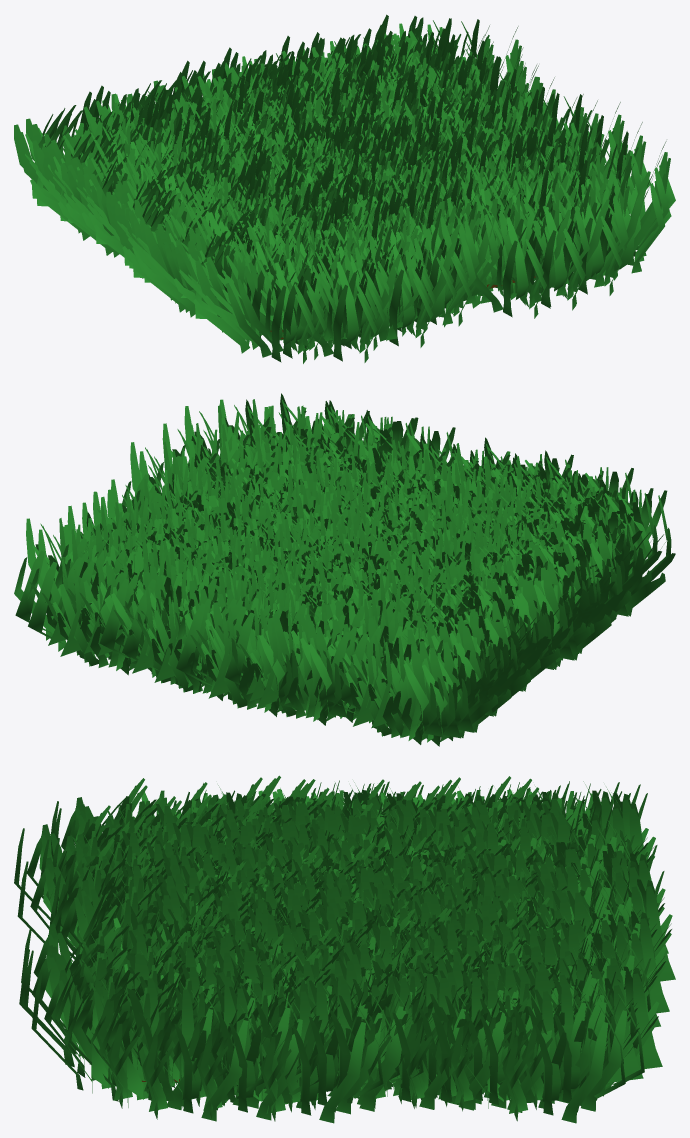
The model's file is Grass_2.fbx.
The picture shows the model from 3 angles, top to bottom: view 1: azimuth 30°, elevation 25°; view 2: azimuth 150°, elevation 25°; view 3: azimuth 270°, elevation 25°; orthographic projection. The views are drawn at different scales.
Visible parts, largest first — view 1: Plane.002|Plane.001|Dupli|37, Plane.002|Plane.001|Dupli|95, Plane.002|Plane.001|Dupli|101, Plane.002|Plane.001|Dupli|59, Plane.002|Plane.001|Dupli|155, Plane.002|Plane.001|Dupli|168, Plane.002|Plane.001|Dupli|185, Plane.002|Plane.001|Dupli|105, Plane.002|Plane.001|Dupli|65, Plane.002|Plane.001|Dupli|97, Plane.002|Plane.001|Dupli|170, Plane.002|Plane.001|Dupli|44 (+107 smaller); view 2: Plane.002|Plane.001|Dupli|30, Plane.002|Plane.001|Dupli|68, Plane.002|Plane.001|Dupli|104, Plane.002|Plane.001|Dupli|148, Plane.002|Plane.001|Dupli|1, Plane.002|Plane.001|Dupli|37, Plane.002|Plane.001|Dupli|15, Plane.002|Plane.001|Dupli|105, Plane.002|Plane.001|Dupli|48, Plane.002|Plane.001|Dupli|75, Plane.002|Plane.001|Dupli|170, Plane.002|Plane.001|Dupli|103 (+100 smaller); view 3: Plane.002|Plane.001|Dupli|44, Plane.002|Plane.001|Dupli|48, Plane.002|Plane.001|Dupli|155, Plane.002|Plane.001|Dupli|68, Plane.002|Plane.001|Dupli|159, Plane.002|Plane.001|Dupli|150, Plane.002|Plane.001|Dupli|127, Plane.002|Plane.001|Dupli|27, Plane.002|Plane.001|Dupli|71, Plane.002|Plane.001|Dupli|12, Plane.002|Plane.001|Dupli|163, Plane.002|Plane.001|Dupli|59 (+142 smaller).
Boxes of the visible parts, x1=… form: Plane.002|Plane.001|Dupli|37: x1=177, y1=212, x2=357, y2=363; Plane.002|Plane.001|Dupli|95: x1=445, y1=166, x2=590, y2=318; Plane.002|Plane.001|Dupli|101: x1=238, y1=210, x2=420, y2=362; Plane.002|Plane.001|Dupli|59: x1=479, y1=158, x2=630, y2=310; Plane.002|Plane.001|Dupli|155: x1=506, y1=143, x2=671, y2=295; Plane.002|Plane.001|Dupli|168: x1=330, y1=195, x2=482, y2=347; Plane.002|Plane.001|Dupli|185: x1=188, y1=208, x2=367, y2=359; Plane.002|Plane.001|Dupli|105: x1=18, y1=99, x2=200, y2=240; Plane.002|Plane.001|Dupli|65: x1=370, y1=174, x2=514, y2=326; Plane.002|Plane.001|Dupli|97: x1=126, y1=175, x2=308, y2=317; Plane.002|Plane.001|Dupli|170: x1=115, y1=170, x2=292, y2=312; Plane.002|Plane.001|Dupli|44: x1=526, y1=128, x2=675, y2=280; Plane.002|Plane.001|Dupli|30: x1=320, y1=593, x2=489, y2=744; Plane.002|Plane.001|Dupli|68: x1=27, y1=523, x2=164, y2=675; Plane.002|Plane.001|Dupli|104: x1=340, y1=594, x2=508, y2=746; Plane.002|Plane.001|Dupli|148: x1=174, y1=565, x2=309, y2=716; Plane.002|Plane.001|Dupli|1: x1=225, y1=575, x2=367, y2=725; Plane.002|Plane.001|Dupli|37: x1=516, y1=473, x2=675, y2=616; Plane.002|Plane.001|Dupli|15: x1=122, y1=549, x2=251, y2=700; Plane.002|Plane.001|Dupli|105: x1=357, y1=589, x2=521, y2=740; Plane.002|Plane.001|Dupli|48: x1=14, y1=512, x2=142, y2=659; Plane.002|Plane.001|Dupli|75: x1=99, y1=540, x2=232, y2=691; Plane.002|Plane.001|Dupli|170: x1=463, y1=517, x2=621, y2=662; Plane.002|Plane.001|Dupli|103: x1=378, y1=577, x2=540, y2=724; Plane.002|Plane.001|Dupli|44: x1=67, y1=962, x2=278, y2=1121; Plane.002|Plane.001|Dupli|48: x1=458, y1=964, x2=643, y2=1123; Plane.002|Plane.001|Dupli|155: x1=31, y1=950, x2=227, y2=1109; Plane.002|Plane.001|Dupli|68: x1=485, y1=952, x2=662, y2=1111; Plane.002|Plane.001|Dupli|159: x1=211, y1=964, x2=400, y2=1123; Plane.002|Plane.001|Dupli|150: x1=133, y1=961, x2=337, y2=1120; Plane.002|Plane.001|Dupli|127: x1=233, y1=955, x2=413, y2=1114; Plane.002|Plane.001|Dupli|27: x1=399, y1=953, x2=585, y2=1112; Plane.002|Plane.001|Dupli|71: x1=235, y1=952, x2=432, y2=1111; Plane.002|Plane.001|Dupli|12: x1=289, y1=950, x2=482, y2=1109; Plane.002|Plane.001|Dupli|163: x1=330, y1=951, x2=527, y2=1110; Plane.002|Plane.001|Dupli|59: x1=19, y1=926, x2=211, y2=1080.
Bounding box in the file's own units: 315 × 73.71 × 317.
